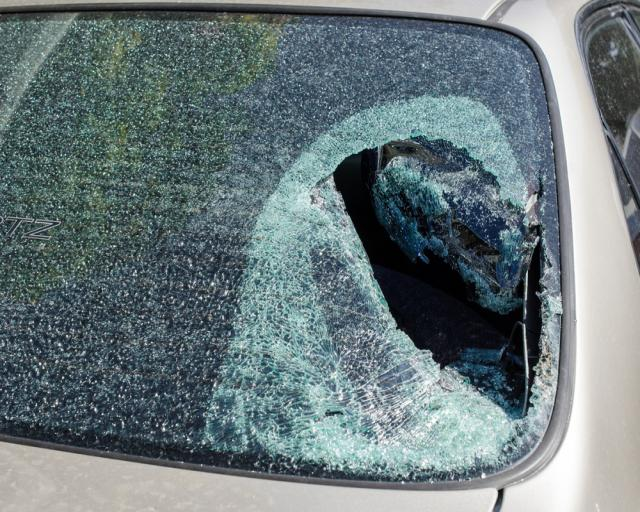glass shatter: (0, 10, 562, 482)
